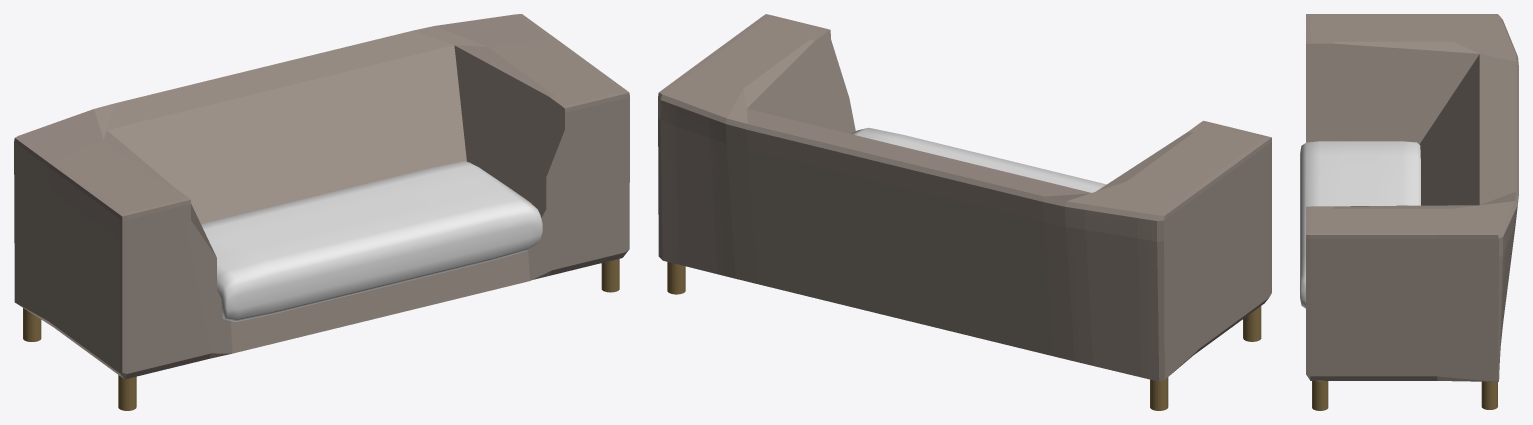
The picture shows the model from 3 angles, left to right: view 1: azimuth 30°, elevation 25°; view 2: azimuth 150°, elevation 25°; view 3: azimuth 270°, elevation 25°; orthographic projection. The views are drawn at different scales.
Visible parts, largest first — view 1: Cube, Cube.001, Cylinder.003, Cylinder; view 2: Cube, Cube.001, Cylinder.002, Cylinder.001, Cylinder.003; view 3: Cube, Cube.001, Cylinder, Cylinder.001.
Part boxes in pixels (left/top/right/bottom): Cube: left=14, top=14, right=629, bottom=379; Cube.001: left=201, top=161, right=542, bottom=321; Cylinder.003: left=118, top=375, right=136, bottom=410; Cylinder: left=601, top=259, right=619, bottom=292; Cube: left=658, top=14, right=1271, bottom=381; Cube.001: left=851, top=127, right=1106, bottom=192; Cylinder.002: left=1150, top=377, right=1168, bottom=410; Cylinder.001: left=667, top=262, right=685, bottom=294; Cylinder.003: left=1243, top=306, right=1261, bottom=341; Cube: left=1306, top=14, right=1518, bottom=381; Cube.001: left=1300, top=141, right=1420, bottom=308; Cylinder: left=1312, top=380, right=1328, bottom=410; Cylinder.001: left=1481, top=381, right=1497, bottom=409.
Bounding box in the file's own units: 1.6 × 0.5995 × 0.6691.
